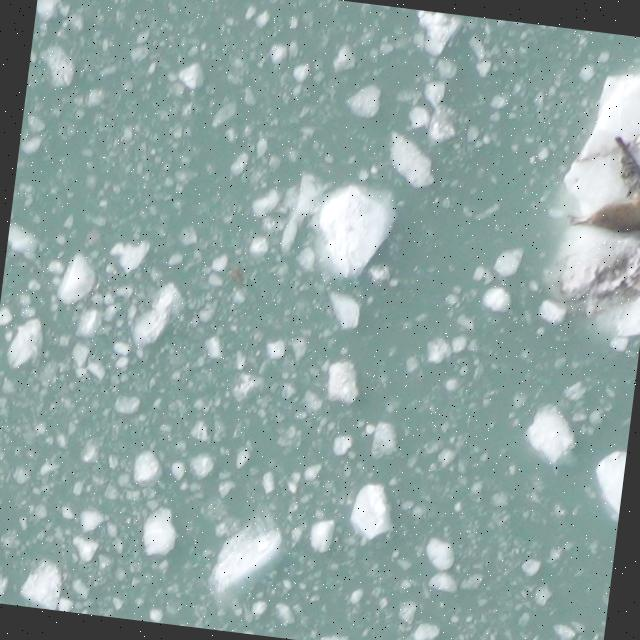seal: (562, 182, 640, 240), (606, 130, 640, 198)
